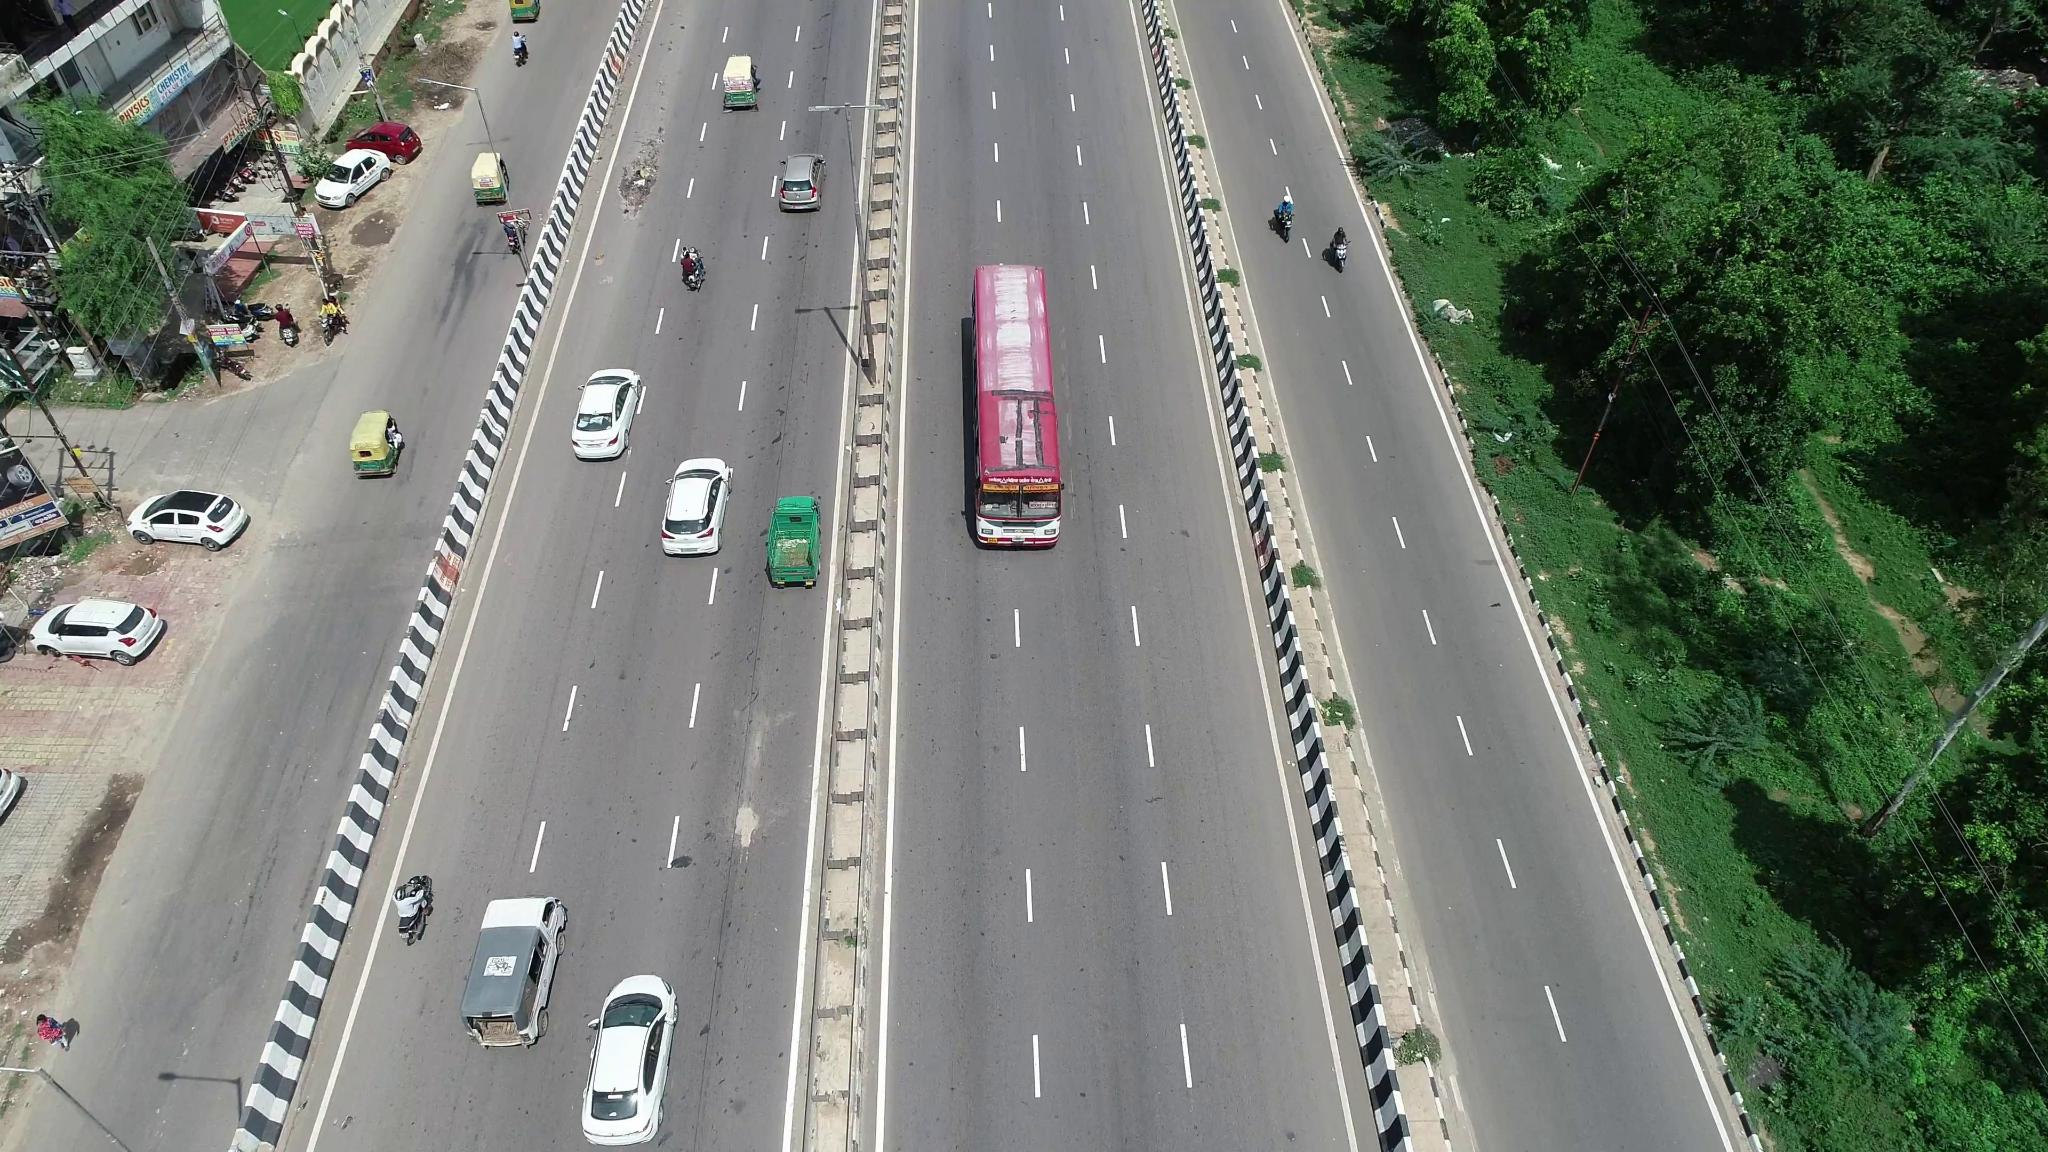Potholes: (705, 774, 767, 866)
